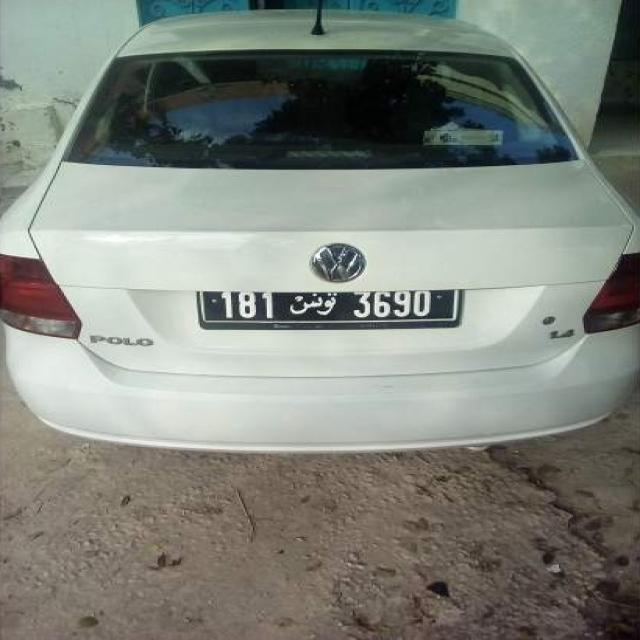licence plate: (197, 287, 464, 331)
